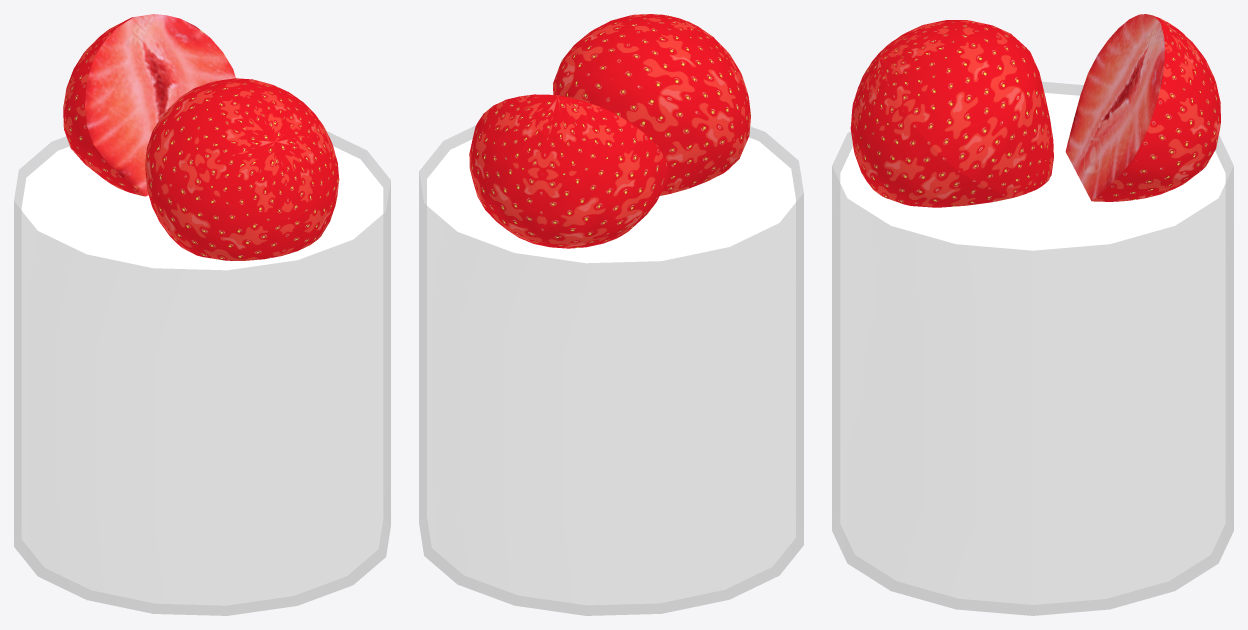
Rendered from fresas_con_crema.glb.
The picture shows the model from 3 angles, left to right: view 1: azimuth 30°, elevation 25°; view 2: azimuth 150°, elevation 25°; view 3: azimuth 270°, elevation 25°; orthographic projection. The views are drawn at different scales.
Visible parts, largest first — view 1: Object_2, Object_3, 3DSMeshMatrix (×3); view 2: Object_2, Object_3, 3DSMeshMatrix (×2); view 3: Object_2, Object_3, 3DSMeshMatrix (×3).
Part boxes in pixels (x1,y1,x2,y2): Object_2: (21,146,383,605); Object_3: (14,131,390,615); 3DSMeshMatrix (×3): (63,14,339,260); Object_2: (427,137,795,604); Object_3: (419,125,803,615); 3DSMeshMatrix (×2): (469,14,750,248); Object_2: (840,92,1225,604); Object_3: (832,81,1233,615); 3DSMeshMatrix (×3): (850,14,1220,207).
Bounding box in the file's own units: 100 × 138 × 100.
4 materials, 2 textured.
